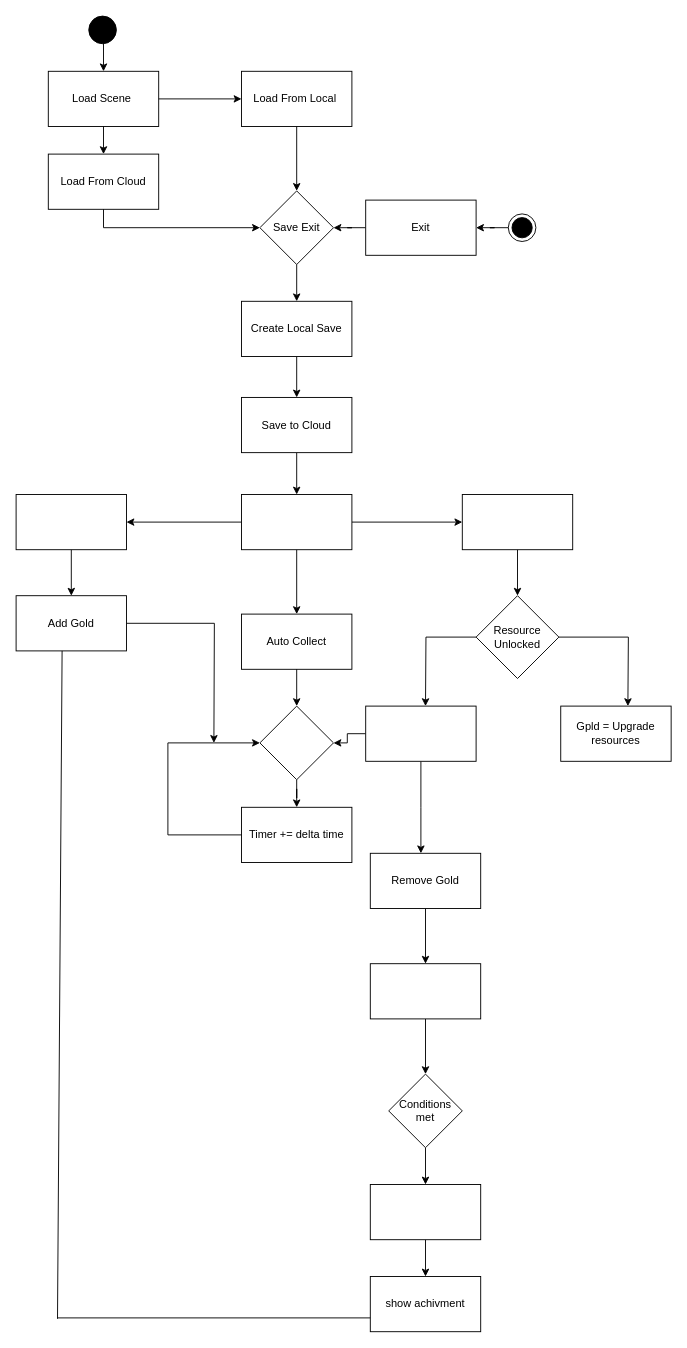
Some shapes in this 687 by 1348 pixel diagram are drawn without their labels. Here are the shapes that lost their labels. From the top down, the centre of each, then its label:
At [70,522]: "Tap Coin".
At [296,522]: "Game Play".
At [517,522]: "Tap Resource".
At [296,742]: "timer >= 1".
At [420,733]: "Gold = Unlocked resources".
At [425,991]: "Save Game".
At [425,1212]: "Unlocke achivment".
